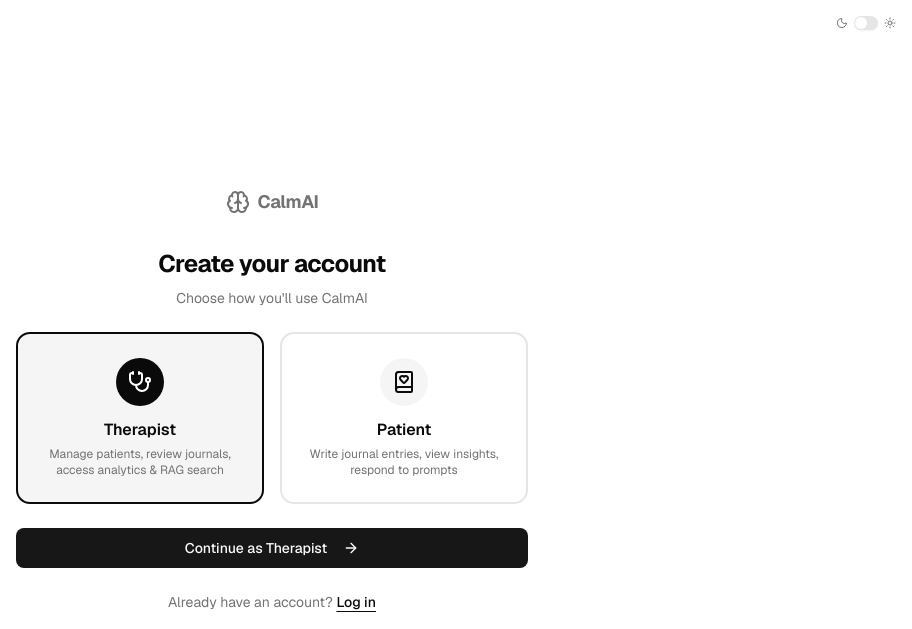
Test: Signup page › switches to Patient role when Patient card is clicked
Step 1. Click the text "Patient" → [404, 430], box [377,419,431,440]
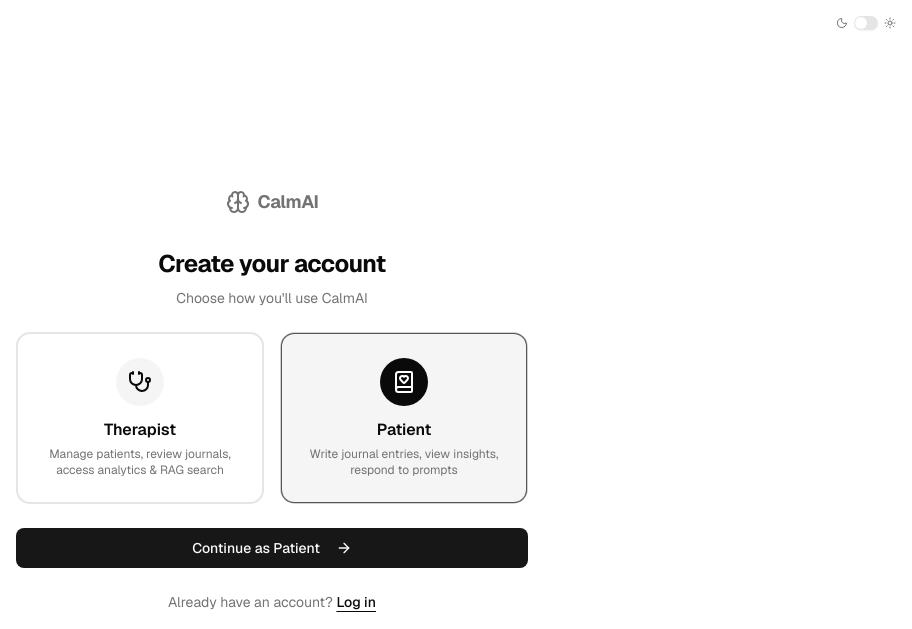
Expected: the button "Continue as Patient" is shown, [16,528,528,568]
